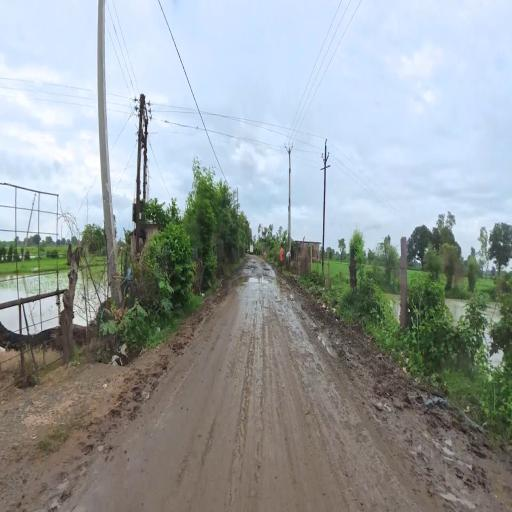longitudinal_crack: (222, 252, 273, 505)
